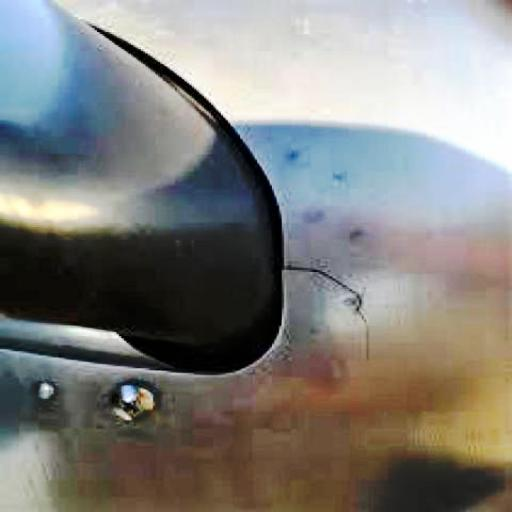crack: (285, 256, 376, 357)
